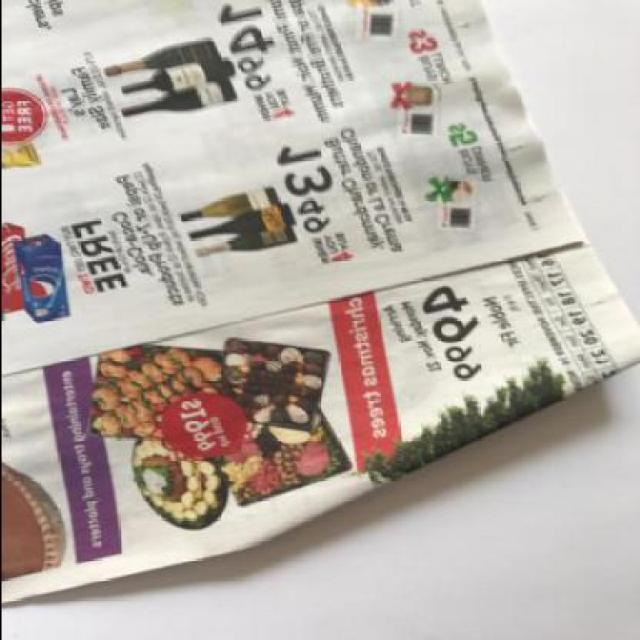paper: (1, 0, 638, 597)
